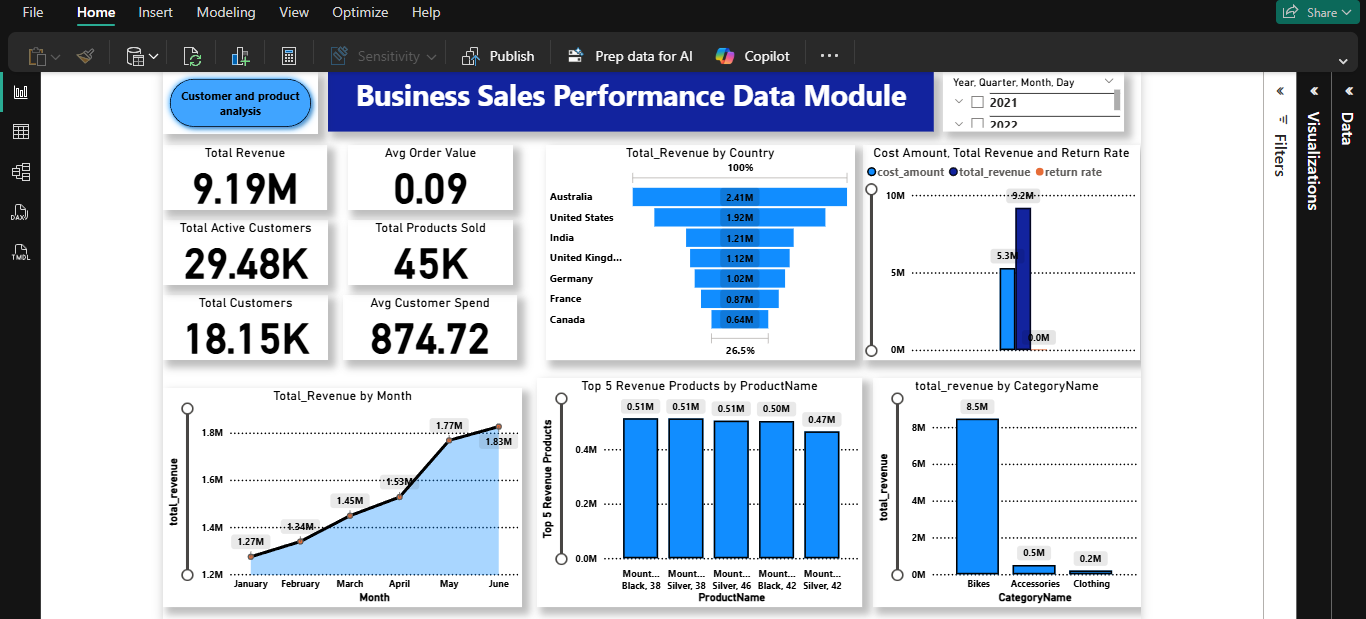

The page's visual inventory and layout, read from the dashboard file:
{"tool":"powerbi","page":{"name":"Page 1","canvas":[1280,720],"ordinal":0},"visuals":[{"type":"textbox","box":[216,0,793.5,77.9],"z":0},{"type":"card","title":"Total  Customers","fields":{"Values":["CountNonNull(customers.CustomerKey)"]},"box":[0,291.8,216.4,85.2],"z":1000},{"type":"card","title":"Total Active Customers","fields":{"Values":["CountNonNull(sales.CustomerKey)"]},"box":[0,193.4,216.4,85.2],"z":2000},{"type":"card","title":"Total Revenue","fields":{"Values":["sales.total_revenue"]},"box":[0,95.1,214.8,85.2],"z":3000},{"type":"card","title":"Avg Order Value","fields":{"Values":["sales.Avg_order_value"]},"box":[242.6,95.1,216.4,85.2],"z":4000},{"type":"card","title":"Total Products Sold","fields":{"Values":["Sum(sales.OrderQuantity)"]},"box":[242.6,193.4,216.4,85.2],"z":5000},{"type":"card","title":"Avg Customer Spend","fields":{"Values":["sales.Avg_Spend_per_Customer"]},"box":[236.1,291.8,227.9,85.2],"z":6000},{"type":"lineChart","title":"Total_Revenue by Month","fields":{"Y":["sales.total_revenue"],"Category":["calendar.Date.Variation.Date Hierarchy.Month"]},"box":[0,413.1,470.5,286.9],"z":7000},{"type":"clusteredColumnChart","fields":{"Category":["products.ProductName"],"Y":["products.Top 5 Revenue Products"]},"box":[490.2,400,426.2,300],"z":8000},{"type":"columnChart","fields":{"Category":["product_categories.CategoryName"],"Y":["sales.total_revenue"]},"box":[929.5,400,350.8,300],"z":9000},{"type":"funnel","title":"Total_Revenue by Country","fields":{"Category":["territories.Country"],"Y":["sales.total_revenue"]},"box":[501.1,95.5,404.1,282.1],"z":10000},{"type":"clusteredColumnChart","title":"Cost Amount, Total Revenue and Return Rate","fields":{"Y":["sales.cost_amount","sales.total_revenue","returns.return rate"]},"box":[916.9,95.5,362.9,282.1],"z":11000},{"type":"slicer","fields":{"Values":["calendar.Date.Variation.Date Hierarchy.Year","calendar.Date.Variation.Date Hierarchy.Quarter","calendar.Date.Variation.Date Hierarchy.Month","calendar.Date.Variation.Date Hierarchy.Day"]},"box":[1021.2,0,236.6,77.9],"z":11001},{"type":"shape","box":[0,0,202.8,80.8],"z":11002}]}

Visuals, with their boxes on the page's 1280x720 design canvas (x1, y1, x2, y2). These are canvas units, not pixel positions in the 1366x619 screenshot, which may show the page scaled, cropped or inside an application window:
textbox: (x1=216, y1=0, x2=1010, y2=78)
"Total  Customers" card: (x1=0, y1=292, x2=216, y2=377)
"Total Active Customers" card: (x1=0, y1=193, x2=216, y2=279)
"Total Revenue" card: (x1=0, y1=95, x2=215, y2=180)
"Avg Order Value" card: (x1=243, y1=95, x2=459, y2=180)
"Total Products Sold" card: (x1=243, y1=193, x2=459, y2=279)
"Avg Customer Spend" card: (x1=236, y1=292, x2=464, y2=377)
"Total_Revenue by Month" lineChart: (x1=0, y1=413, x2=470, y2=700)
clusteredColumnChart - products.ProductName x products.Top 5 Revenue Products: (x1=490, y1=400, x2=916, y2=700)
columnChart - product_categories.CategoryName x sales.total_revenue: (x1=930, y1=400, x2=1280, y2=700)
"Total_Revenue by Country" funnel: (x1=501, y1=96, x2=905, y2=378)
"Cost Amount, Total Revenue and Return Rate" clusteredColumnChart: (x1=917, y1=96, x2=1280, y2=378)
slicer - calendar.Date.Variation.Date Hierarchy.Year x calendar.Date.Variation.Date Hierarchy.Quarter: (x1=1021, y1=0, x2=1258, y2=78)
shape: (x1=0, y1=0, x2=203, y2=81)
